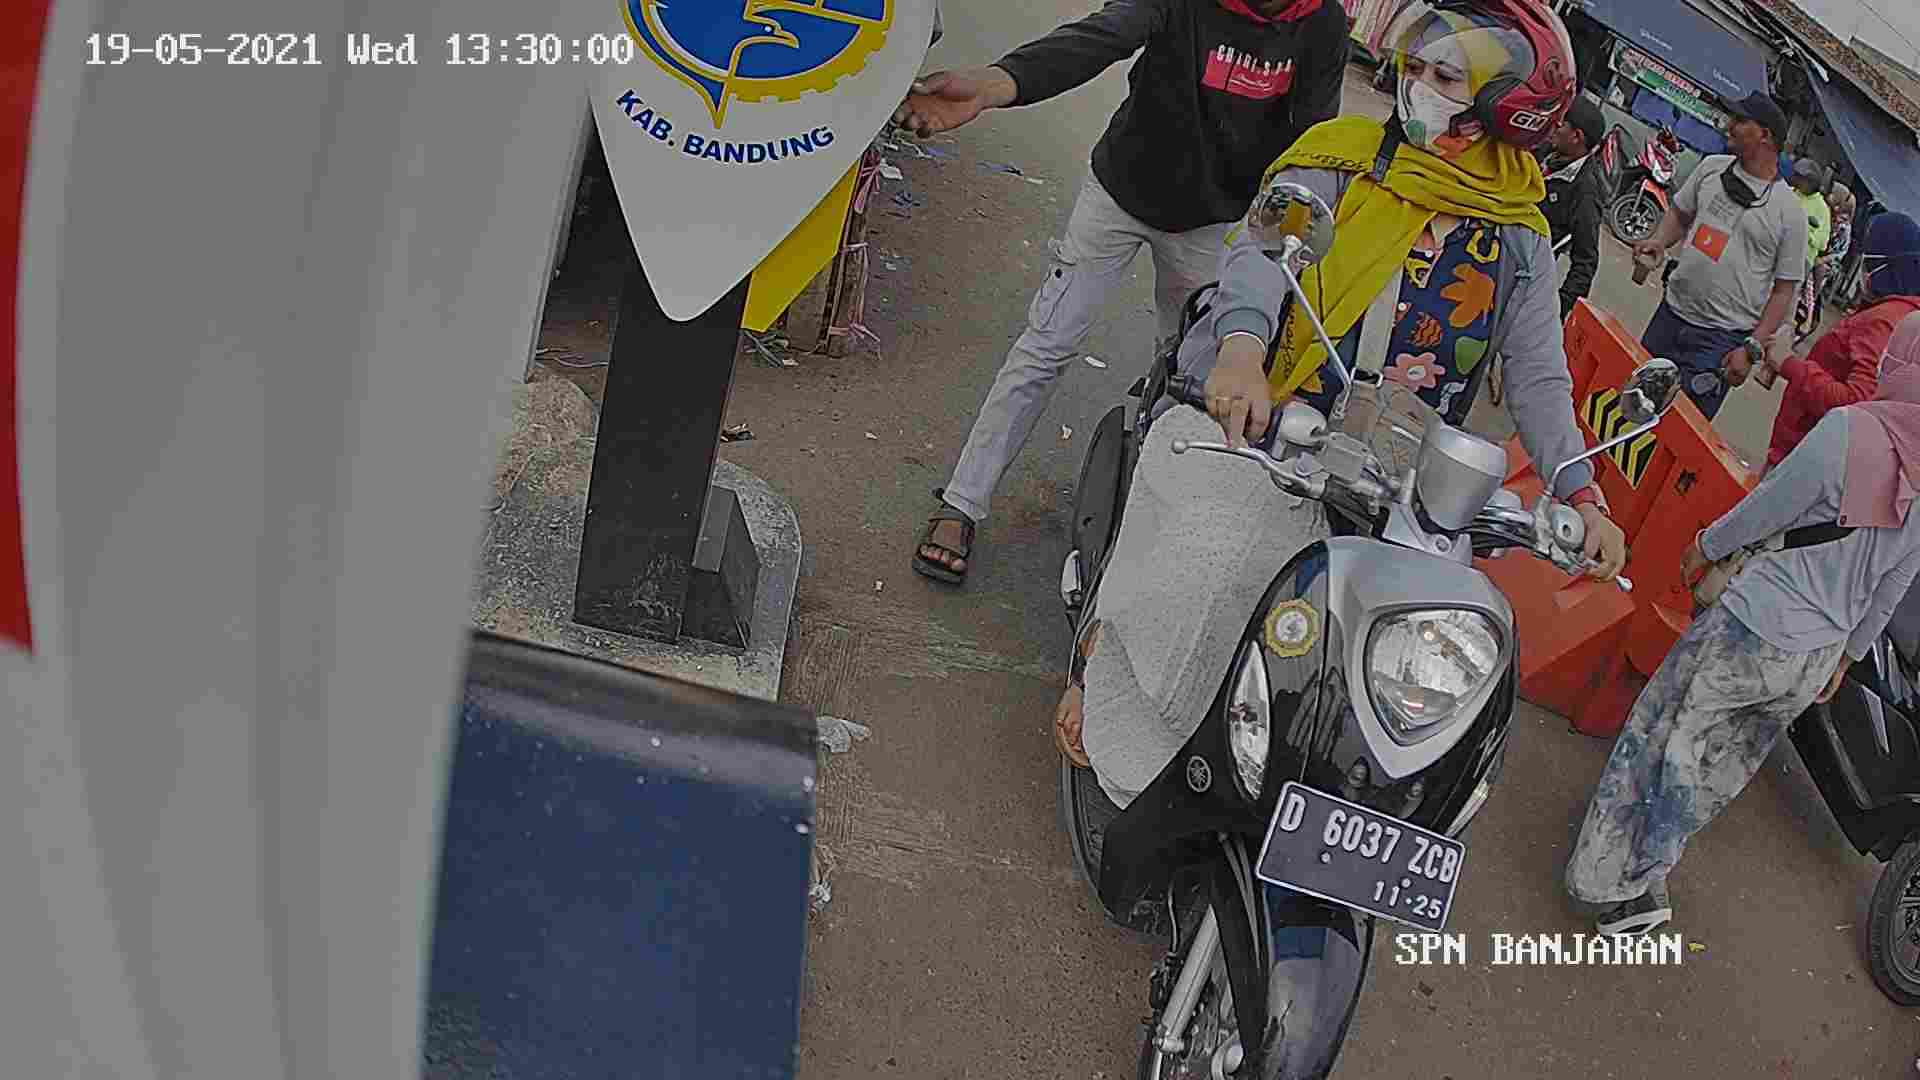motor: (1117, 331, 1474, 1080)
